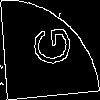G: (24, 25, 72, 68)
